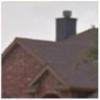chimneys: (56, 10, 78, 44)
